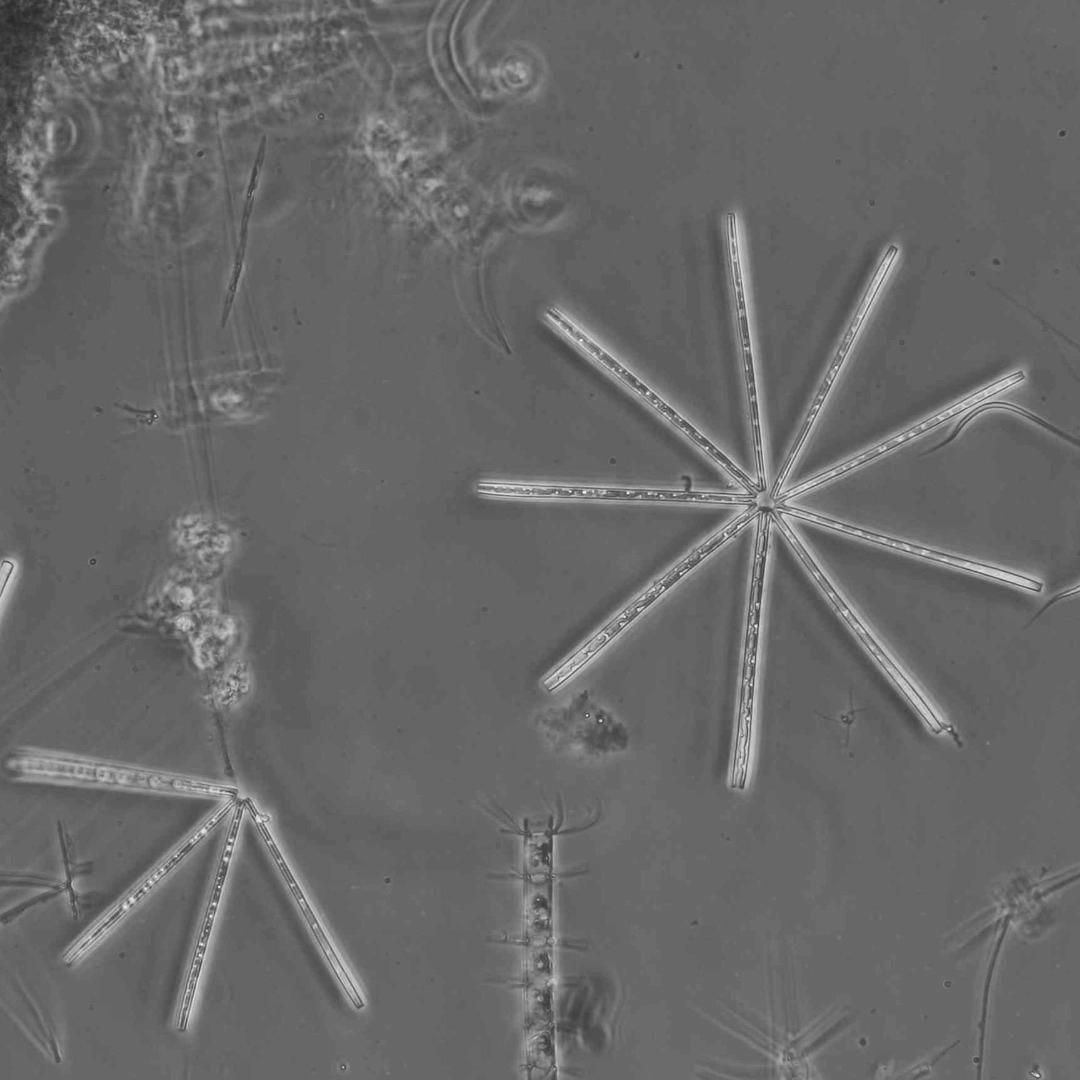thalassionema_nitzschioides: (480, 212, 1042, 788), (13, 748, 367, 1035)
